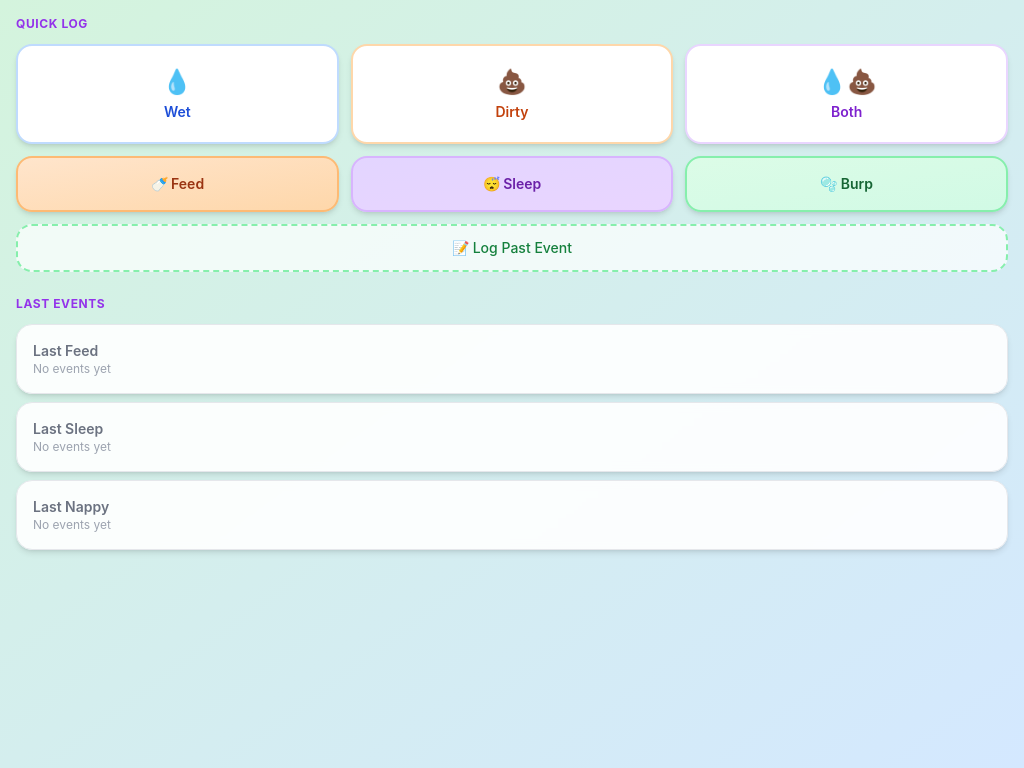
Dashboard — add details chip › shows 'Add details' chip after quick-logging a diaper
Click the button "💧 Wet".
click(177, 94)  # box [16, 44, 339, 144]
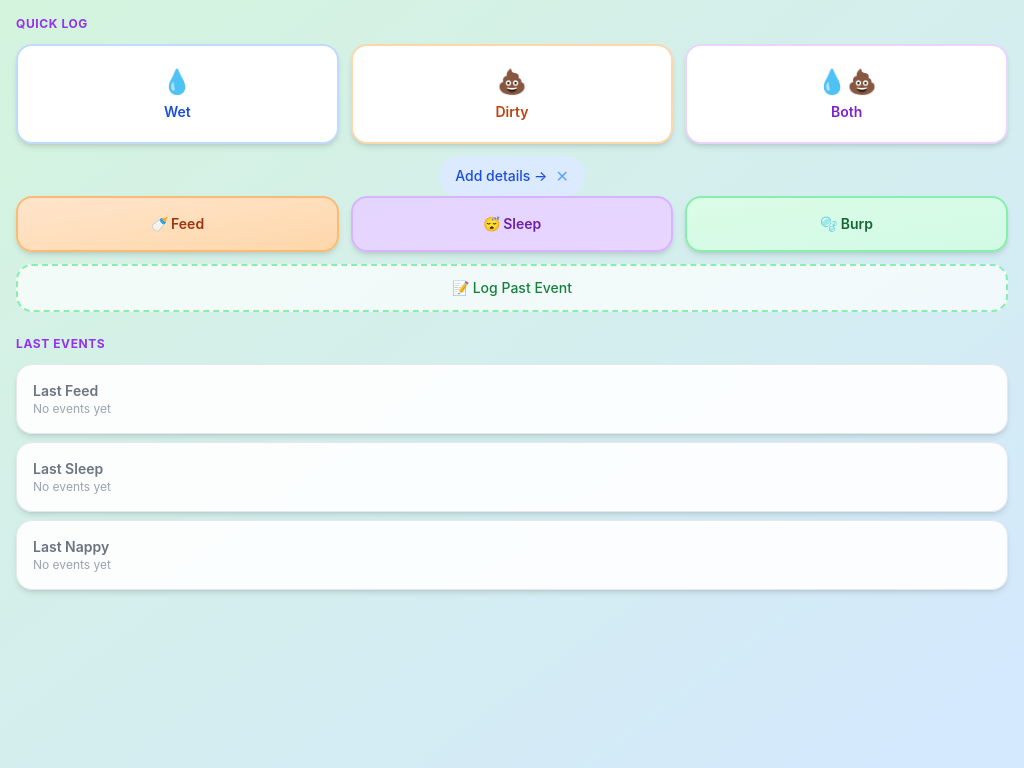
Expected: the button "Add details →" is shown, [455, 166, 547, 186]
